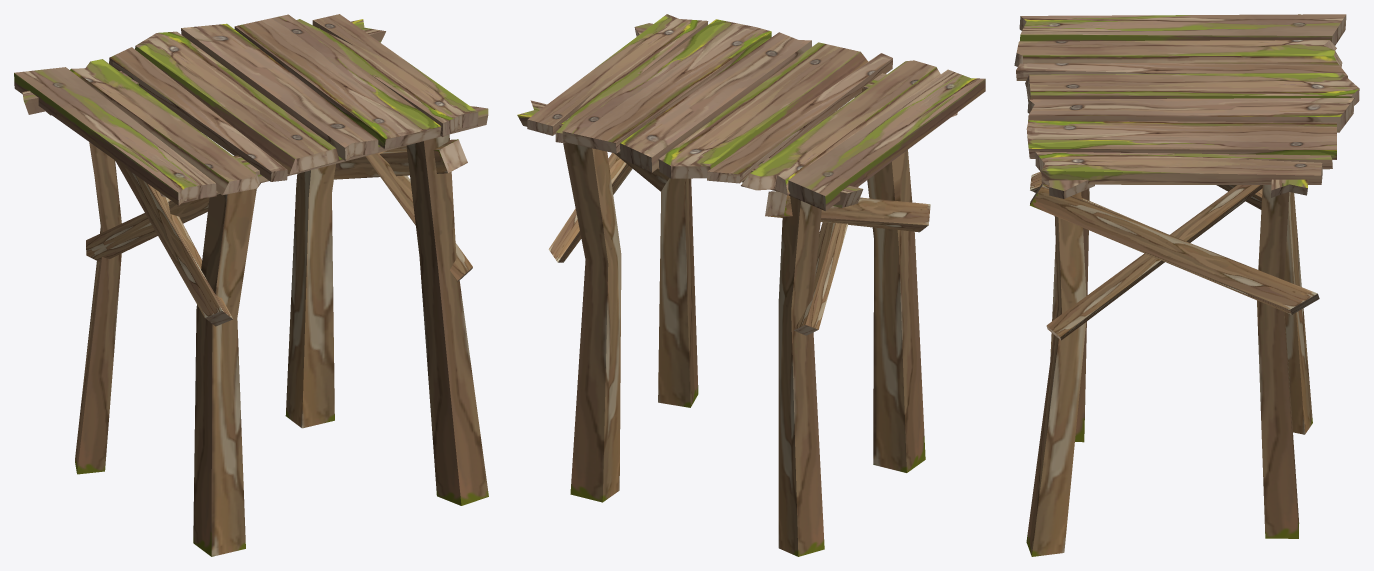
Rendered from Map_04_bridge01.FBX.
3 views of the same model, side by side, from view 1: azimuth 30°, elevation 25°; view 2: azimuth 150°, elevation 25°; view 3: azimuth 270°, elevation 25° (orthographic).
Visible parts, largest first — view 1: Map_04_bridge01; view 2: Map_04_bridge01; view 3: Map_04_bridge01.
Part boxes in pixels (x1,y1,x2,y2): Map_04_bridge01: [14, 14, 488, 556]; Map_04_bridge01: [517, 14, 985, 556]; Map_04_bridge01: [1014, 14, 1359, 556].
Size of the model in its own units: 60.71 by 64.25 by 51.88.
Materials: 1 (1 with a texture image).
